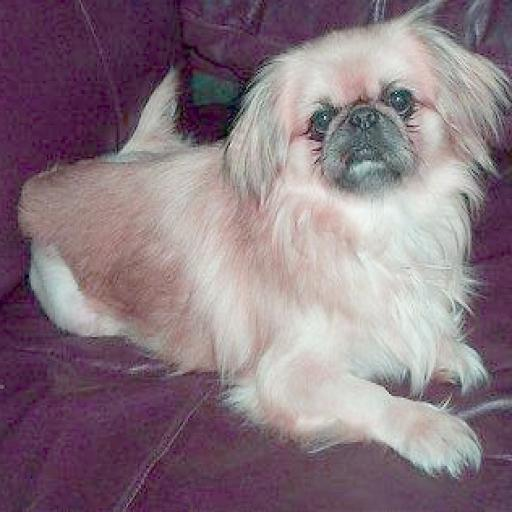dog_face: (223, 24, 488, 206)
